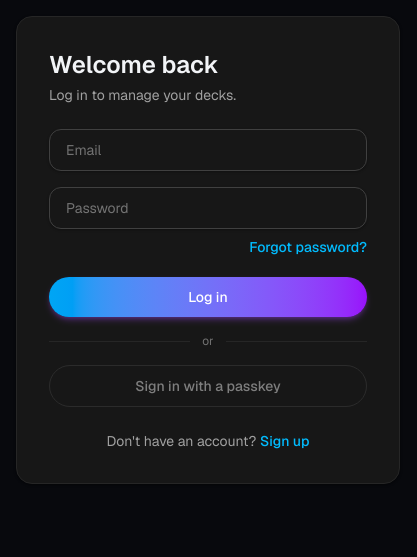
Scenario: LoginPage passkey sign-in › re-enables the button after a failure so the user can retry
Type "alice@example.com" into the field with placeholder "Email" at point(208, 150), box [49,129,367,171]
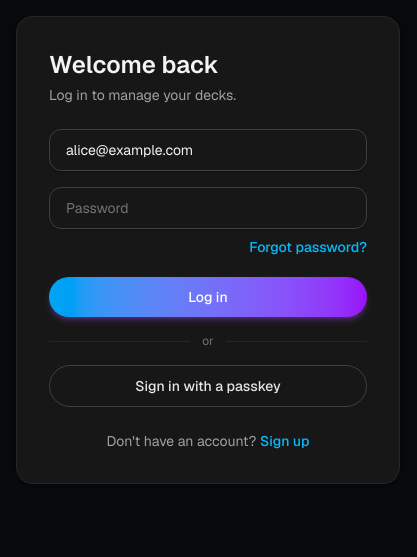
Click the button "Sign in with a passkey" at point(208, 386), box [49,365,367,407]
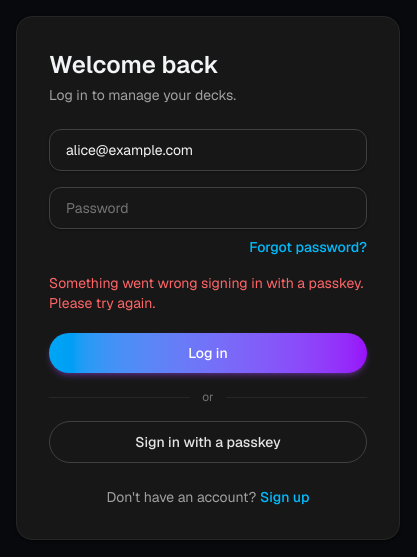
Check: the button "Sign in with a passkey" is enabled, box [49,421,367,463]
Check: the text "Something went wrong" is shown, box [49,274,364,312]
